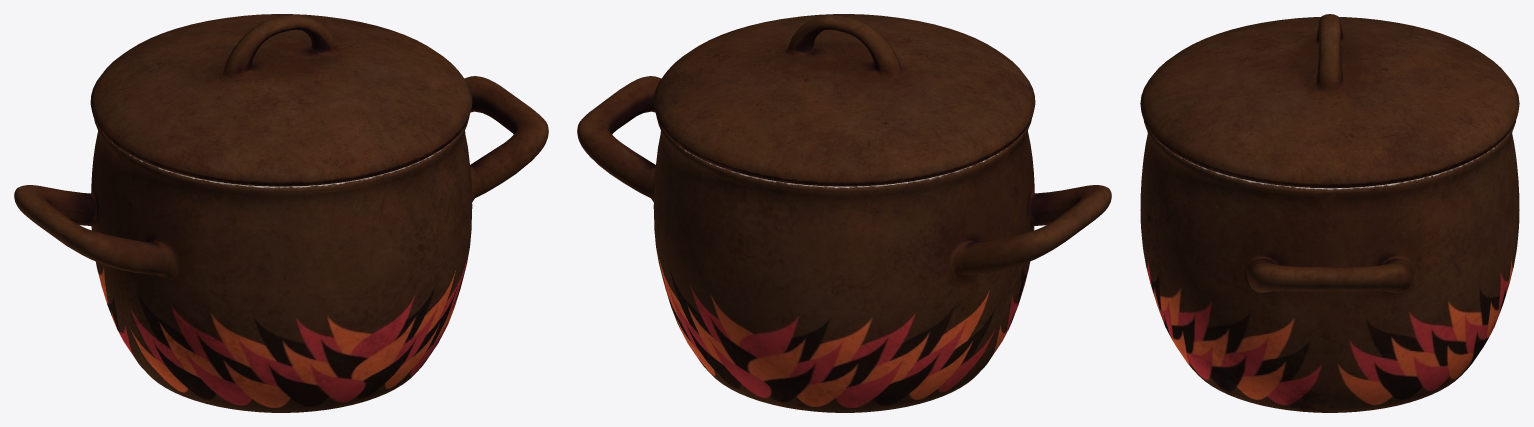
The model's file is pot_enamel_01.glb.
3 views of the same model, side by side, from view 1: azimuth 30°, elevation 25°; view 2: azimuth 150°, elevation 25°; view 3: azimuth 270°, elevation 25° (orthographic).
Visible parts, largest first — view 1: pot_enamel_01_lid; view 2: pot_enamel_01_lid; view 3: pot_enamel_01_lid.
Part boxes in pixels (bbox=[...]): pot_enamel_01_lid: bbox=[14, 14, 548, 412]; pot_enamel_01_lid: bbox=[577, 14, 1111, 412]; pot_enamel_01_lid: bbox=[1140, 14, 1519, 412].
Size of the model in its own units: 0.2628 by 0.1782 by 0.1805.
1 material, 1 textured.
